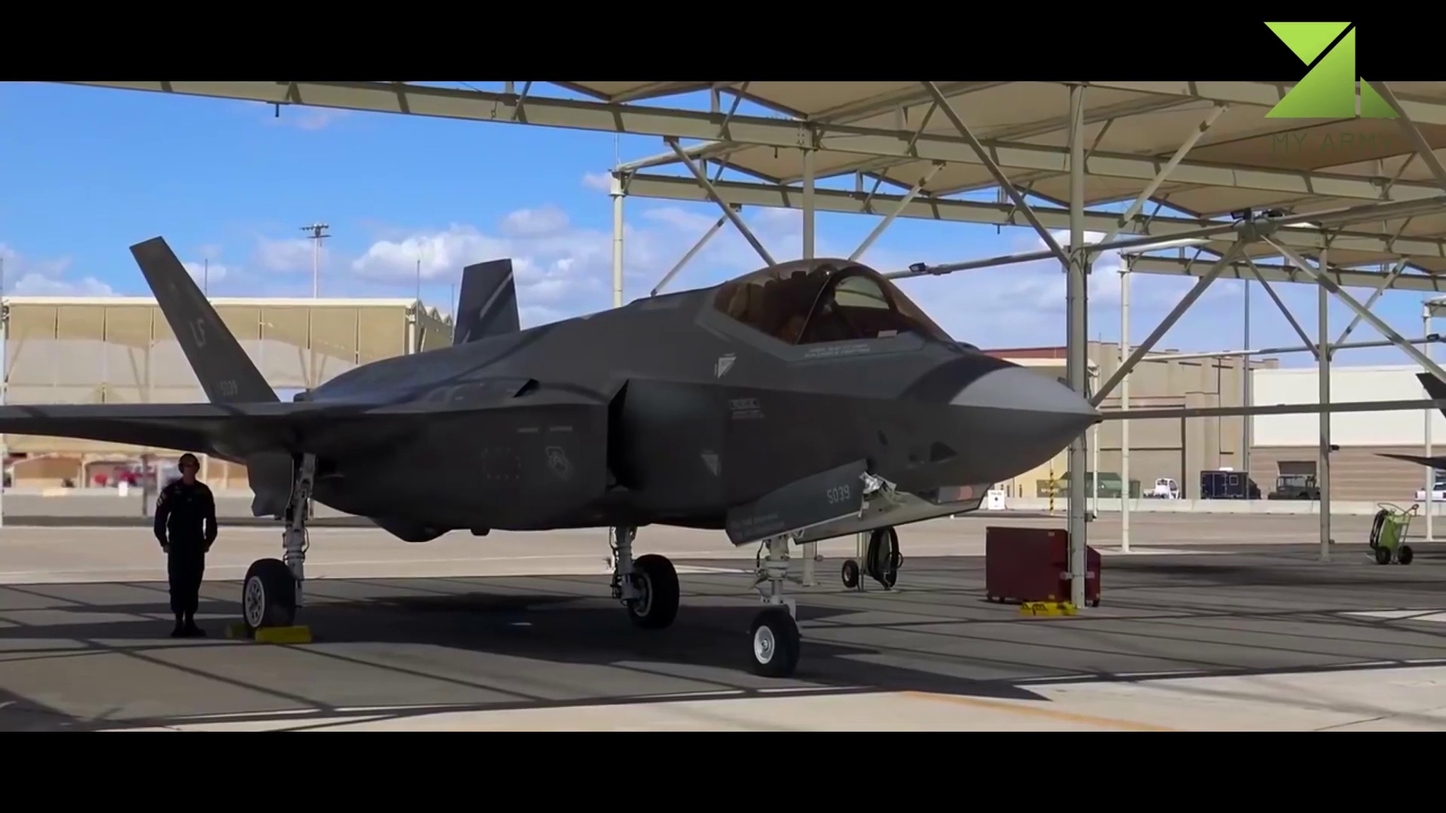F35: (2, 234, 1106, 675)
